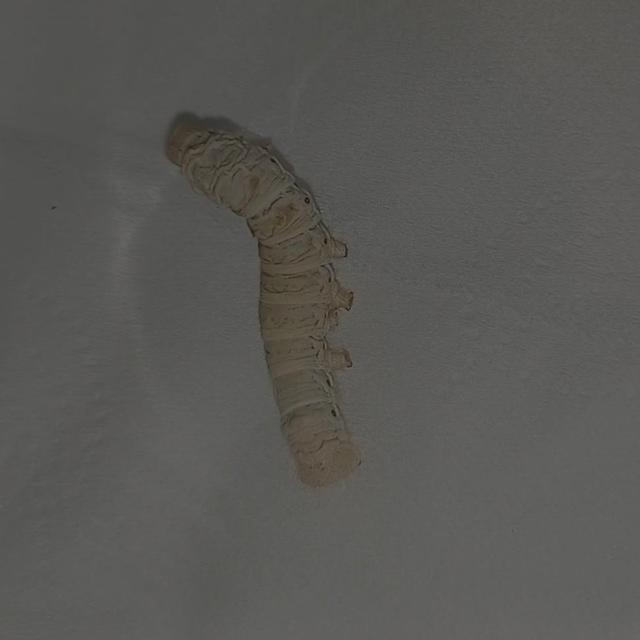Healthy: (160, 87, 407, 497)
